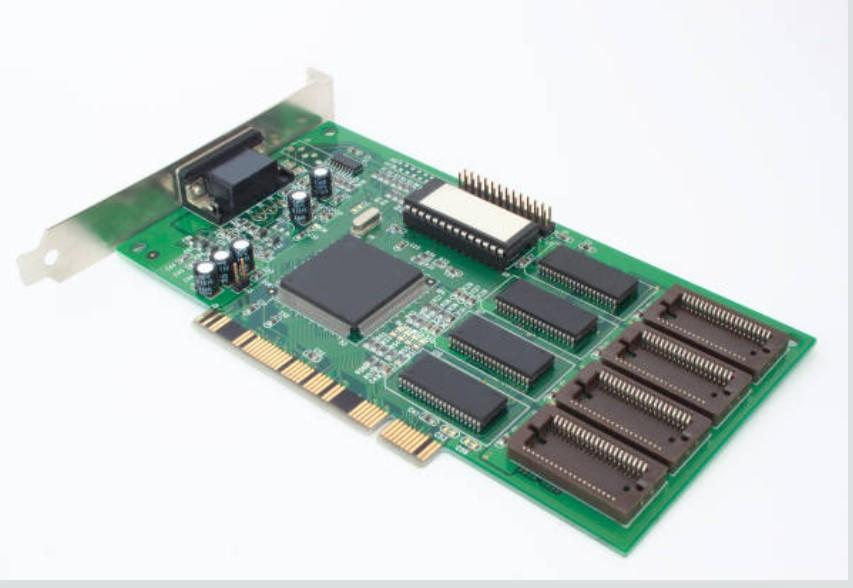Printed Circuit Board PCB: (20, 79, 815, 553)
